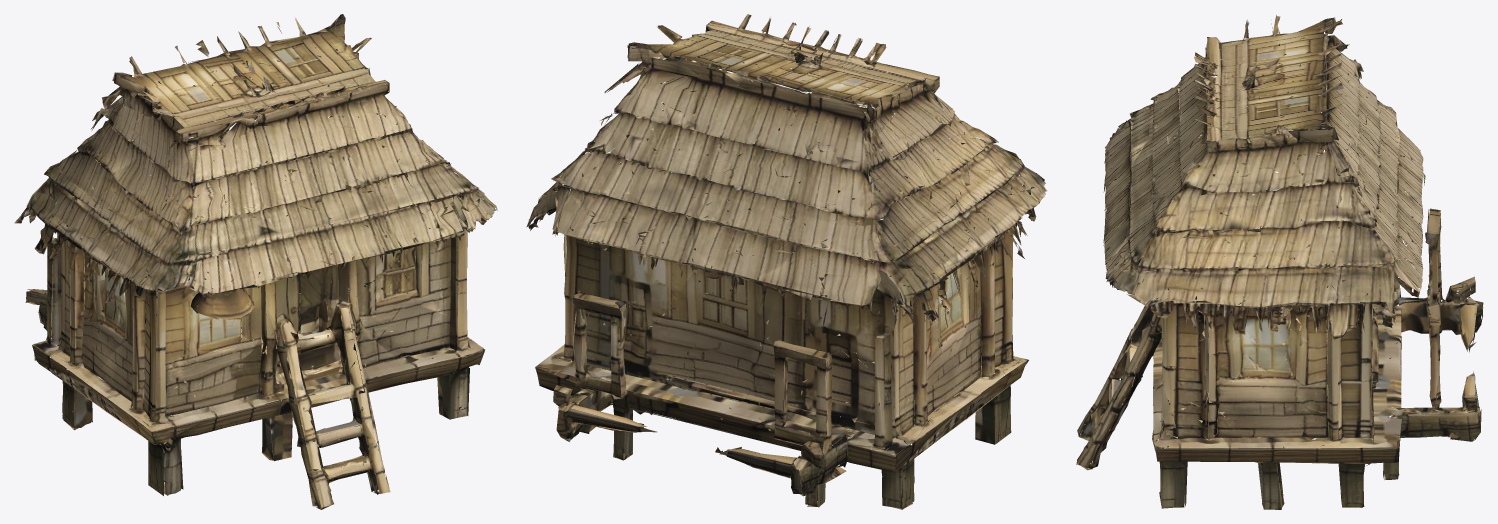
File: turtle-mt-bahay-kubo.glb
3 renders of one model, left to right at view 1: azimuth 30°, elevation 25°; view 2: azimuth 150°, elevation 25°; view 3: azimuth 270°, elevation 25°, orthographic. The views are drawn at different scales.
Parts seen in each view (by area): view 1: Mesh_0; view 2: Mesh_0; view 3: Mesh_0.
Part boxes in pixels (x1=…): Mesh_0: x1=14, y1=14, x2=497, y2=509; Mesh_0: x1=526, y1=14, x2=1047, y2=509; Mesh_0: x1=1076, y1=15, x2=1483, y2=509.
Bounding box in the file's own units: 0.2688 × 0.2604 × 0.2482.
1 material, 1 textured.
